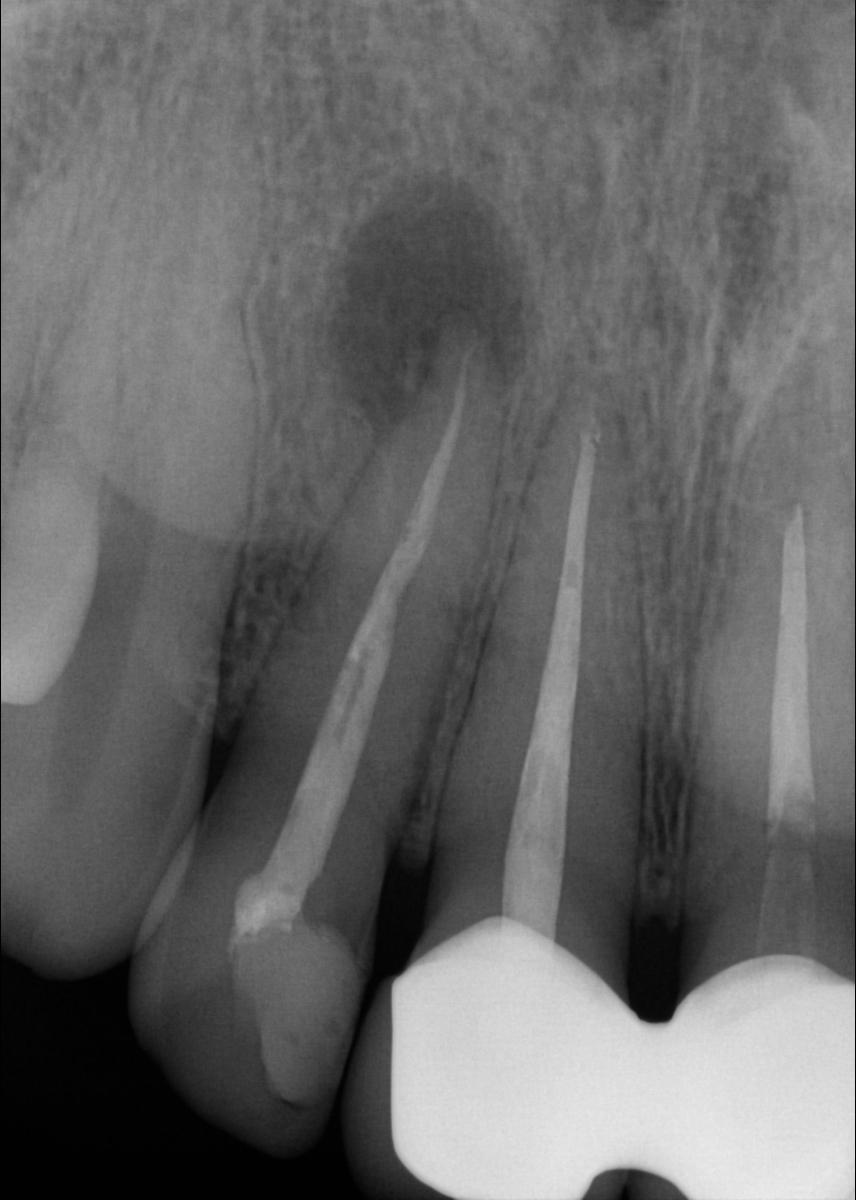Furcation Involvement: (326, 169, 534, 441)
